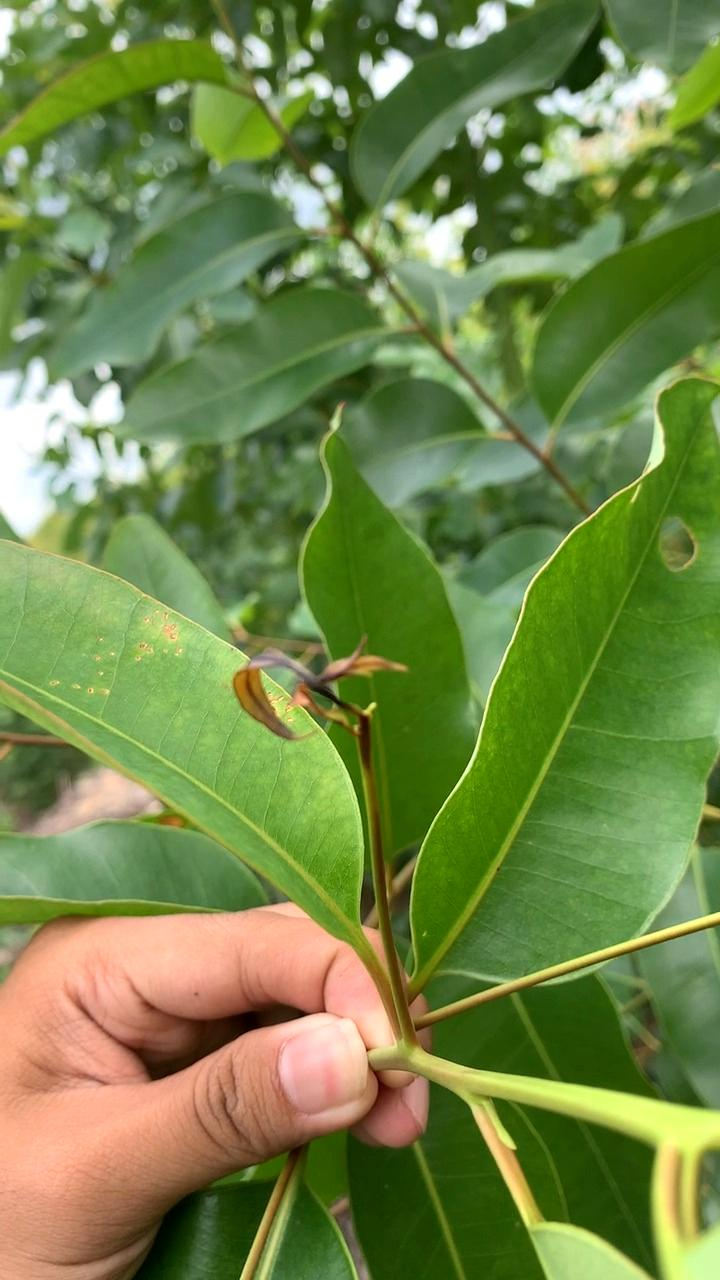Helopeltis-Withered Sprout: (230, 638, 413, 763)
